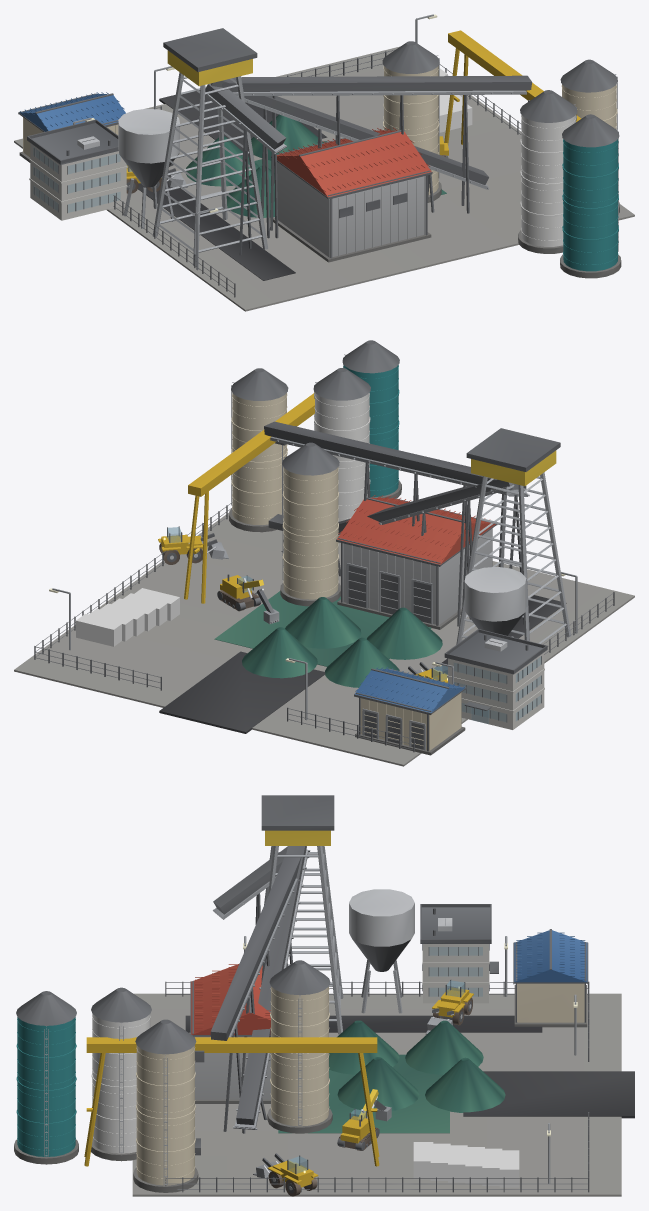
The model's file is Depot_P3.fbx.
3 views of the same model, one above another, from view 1: azimuth 30°, elevation 25°; view 2: azimuth 150°, elevation 25°; view 3: azimuth 270°, elevation 25° (orthographic). The views are drawn at different scales.
Parts seen in each view (by area): view 1: Depot.Yard, Depot.Shed1, Depot.Tower, Depot.Silo2, Depot.Office, Depot.ConvB, Depot.Silo1, Depot.Silo3, Depot.ConvMain, Depot.Hopper, Depot.Shed2, Depot.Silo0 (+8 smaller); view 2: Depot.Yard, Depot.Shed1, Depot.Tower, Depot.Silo3, Depot.Office, Depot.Shed2, Depot.Silo0, Depot.ConvB, Depot.Silo1, Depot.Silo2, Depot.Containers, Depot.Gantry (+9 smaller); view 3: Depot.Yard, Depot.Silo0, Depot.Silo2, Depot.Silo3, Depot.Tower, Depot.Silo1, Depot.Shed2, Depot.Office, Depot.Shed1, Depot.Gantry, Depot.ConvB, Depot.Hopper (+11 smaller).
Boxes of the visible parts, x1,y1,x2,y2 form: Depot.Yard: [14, 46, 634, 311]; Depot.Shed1: [271, 127, 432, 262]; Depot.Tower: [152, 28, 267, 265]; Depot.Silo2: [560, 114, 621, 278]; Depot.Office: [27, 119, 127, 220]; Depot.ConvB: [222, 75, 532, 238]; Depot.Silo1: [518, 90, 577, 253]; Depot.Silo3: [382, 41, 441, 202]; Depot.ConvMain: [211, 80, 488, 238]; Depot.Hopper: [118, 108, 179, 228]; Depot.Shed2: [18, 92, 125, 162]; Depot.Silo0: [560, 59, 619, 214]; Depot.Yard: [14, 512, 634, 766]; Depot.Shed1: [336, 495, 497, 629]; Depot.Tower: [456, 428, 571, 644]; Depot.Silo3: [280, 442, 340, 606]; Depot.Office: [444, 629, 547, 729]; Depot.Shed2: [354, 667, 466, 755]; Depot.Silo0: [229, 368, 288, 532]; Depot.ConvB: [264, 421, 513, 626]; Depot.Silo1: [313, 368, 370, 521]; Depot.Silo2: [342, 340, 401, 498]; Depot.Containers: [76, 588, 179, 646]; Depot.Gantry: [184, 392, 314, 603]; Depot.Yard: [132, 993, 634, 1196]; Depot.Silo0: [133, 1019, 198, 1192]; Depot.Silo2: [14, 991, 78, 1164]; Depot.Silo3: [267, 960, 332, 1133]; Depot.Tower: [261, 795, 343, 1034]; Depot.Silo1: [91, 987, 151, 1161]; Depot.Shed2: [513, 929, 588, 1027]; Depot.Office: [420, 904, 498, 1003]; Depot.Shed1: [190, 964, 270, 1103]; Depot.Gantry: [84, 1037, 379, 1166]; Depot.ConvB: [210, 853, 309, 1133]; Depot.Hopper: [349, 889, 414, 1013].
Bounding box in the file's own units: 8274 × 3465 × 9398.
